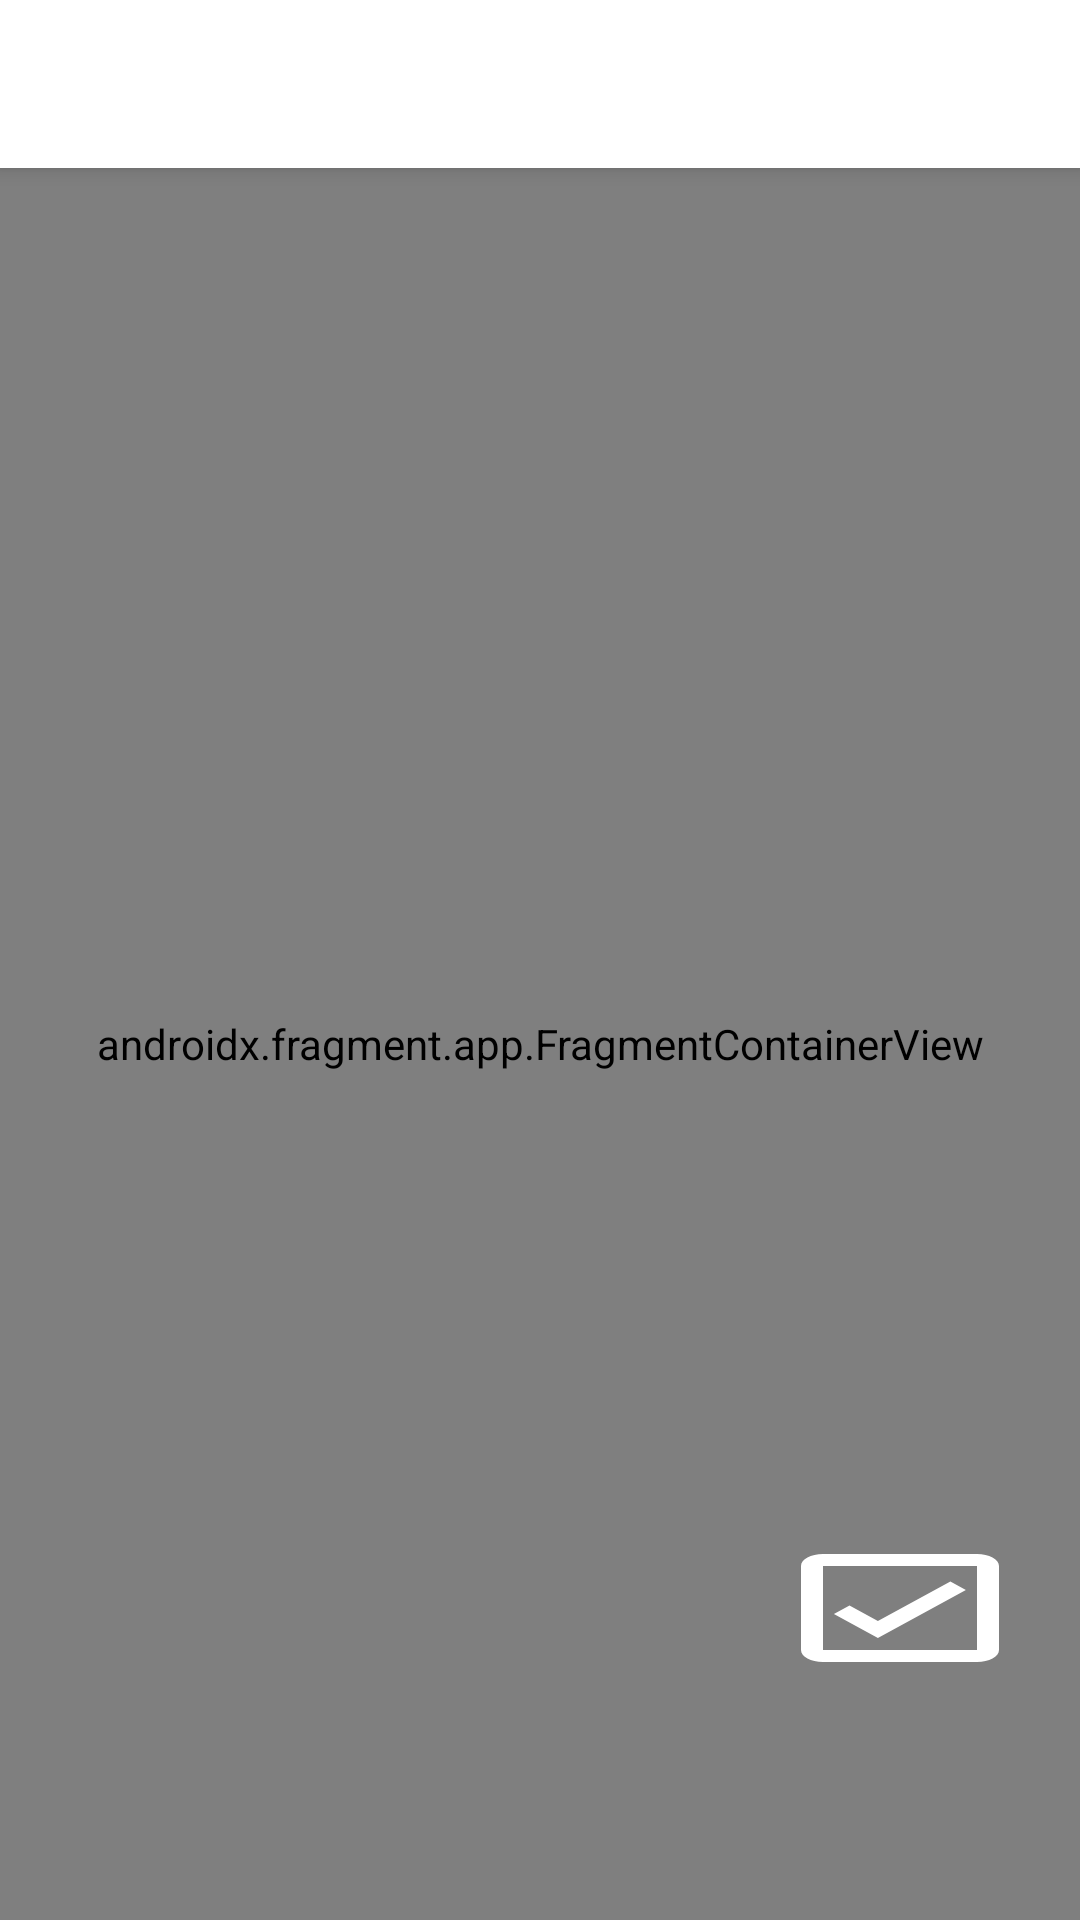

Icon bounding boxes for this 1080px x 1920px phone screenshot, format (x1, y1, x2, y2):
checkbox: (801, 1554, 999, 1662)
